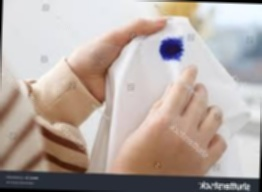ink: (159, 37, 185, 63)
